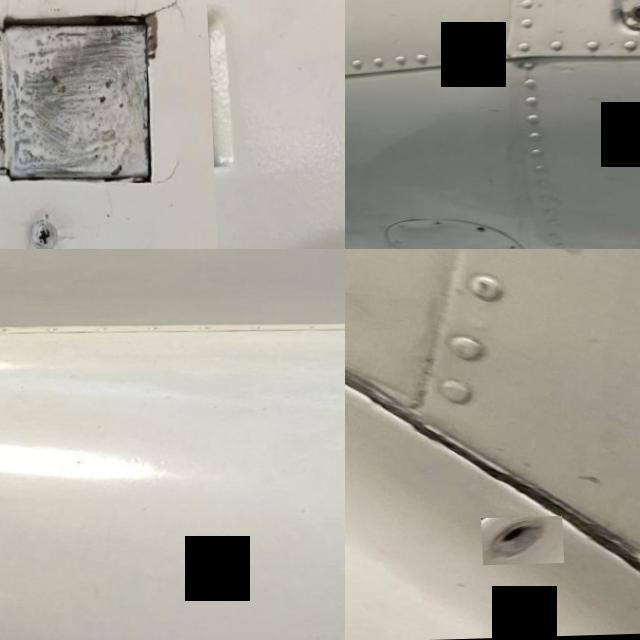Crack: (0, 0, 218, 249), (609, 540, 640, 637)
Missing_Fastener: (476, 518, 559, 568), (469, 227, 482, 236)
